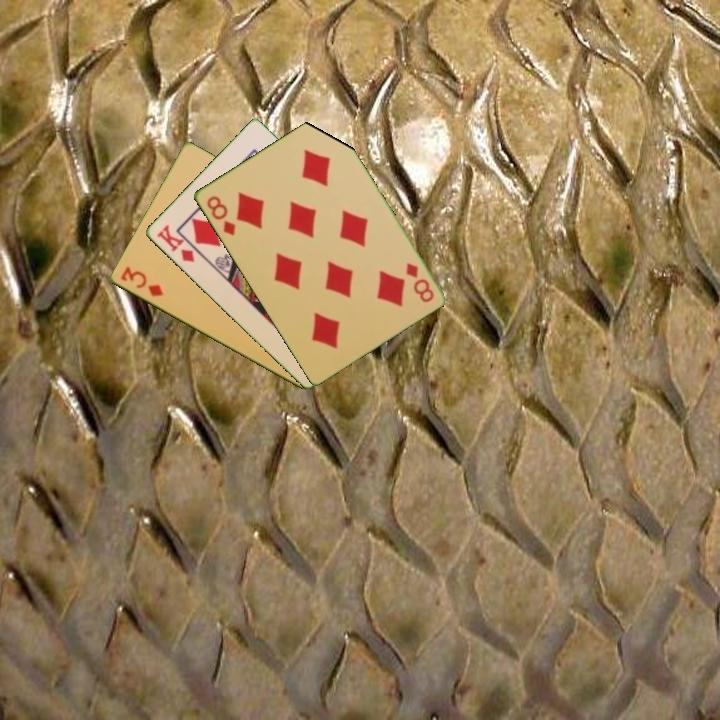3d: (117, 263, 166, 300)
8d: (203, 192, 238, 239), (402, 259, 437, 305)
Kd: (153, 221, 197, 265)
